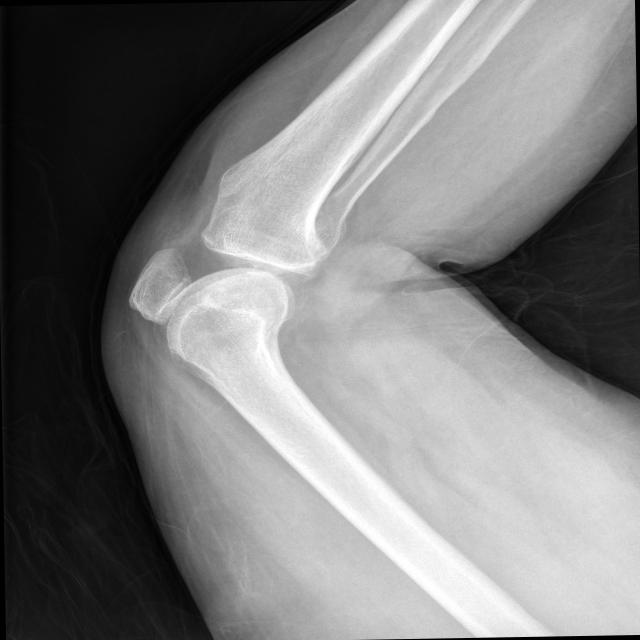Knee: (122, 160, 342, 367)
